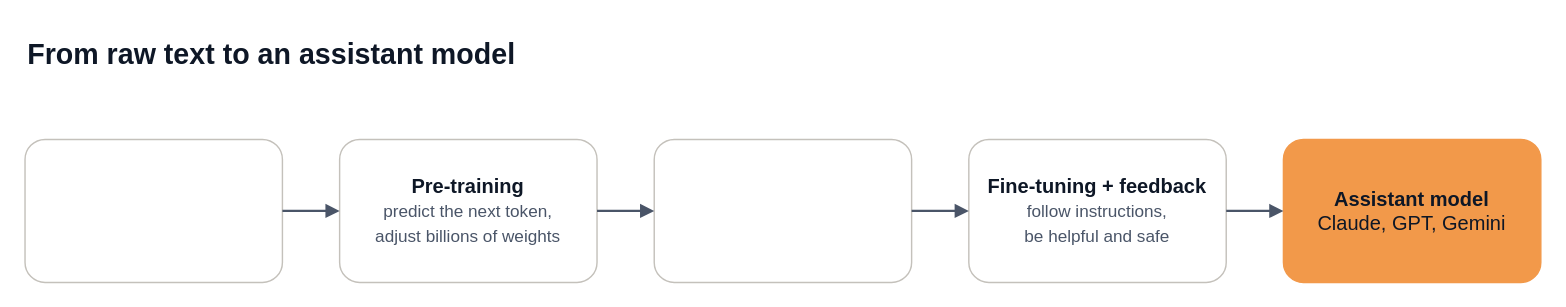
Image size: 1566x307. Some labels were removed from this diagram. Here are the shapes that lost their labels. From the top down, the centre of each, then its label:
At (x=153, y=210): "Trillions of tokens of text and code".
At (x=782, y=210): "Base model great at continuing text".
